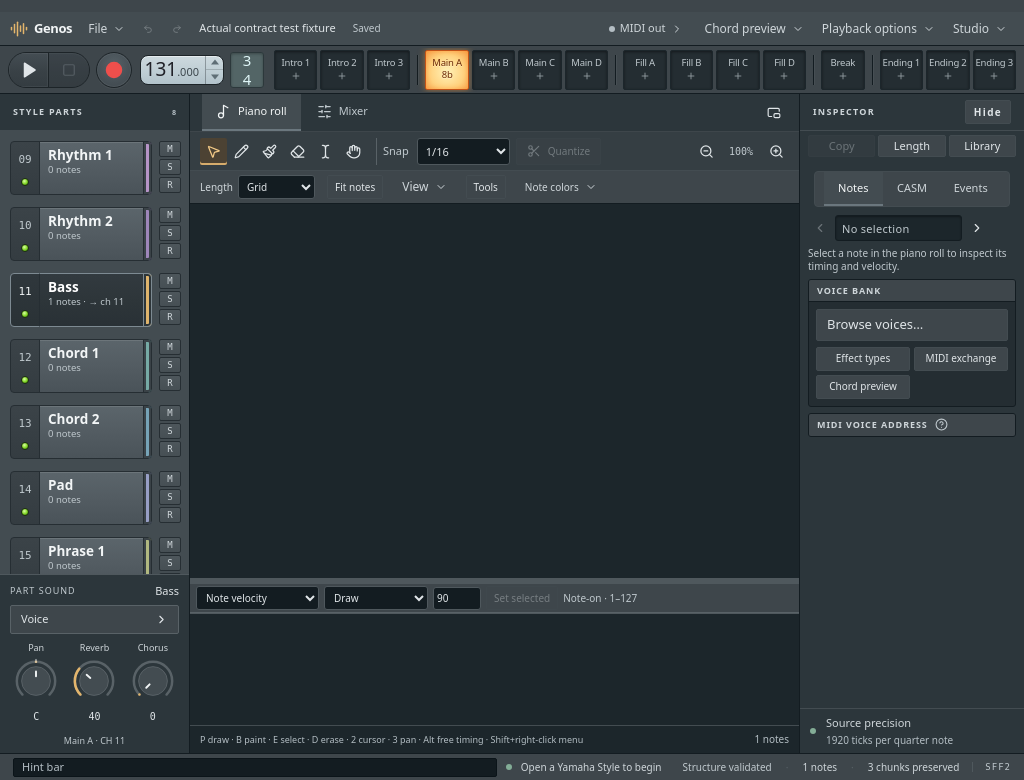
real IPC wiring with isolated test mocks › selects individual notes with keyboard-accessible inspector controls
The width and height of the screenshot is (1024, 780).
(page scrolled)
What coordinates should you click on to do the following:
click the button named "Next note"
I would click on:
 (977, 228)
Its box is [965,215,989,241].
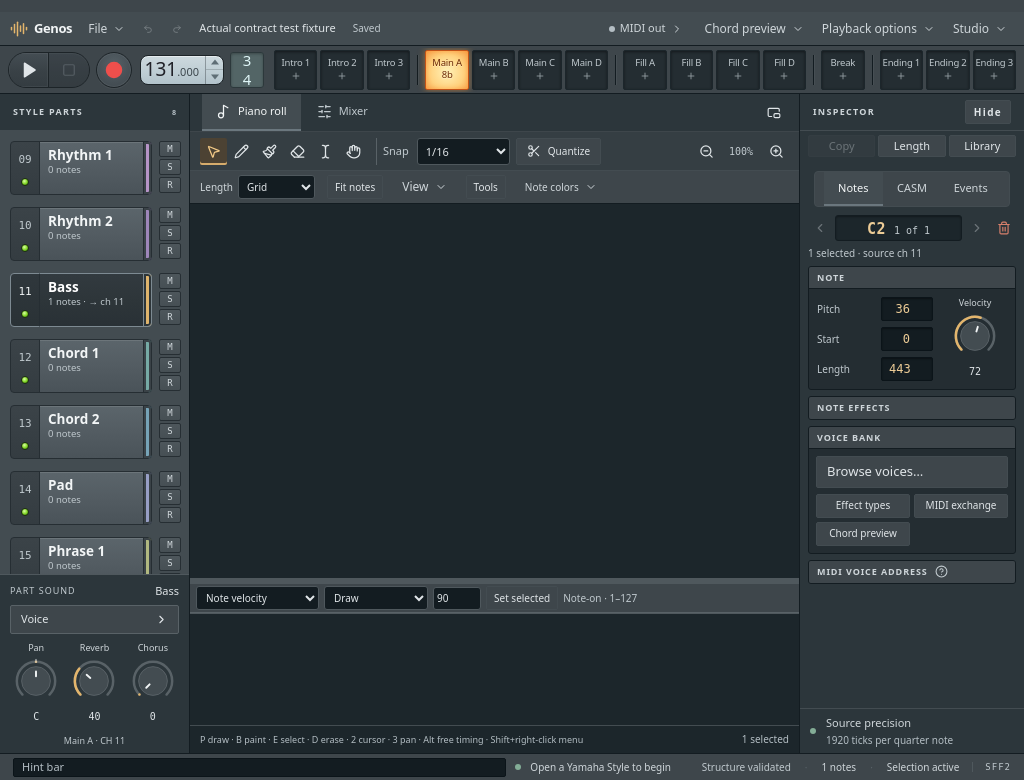
Expected: the slider named "Note velocity" is shown, [952,313,998,359]
